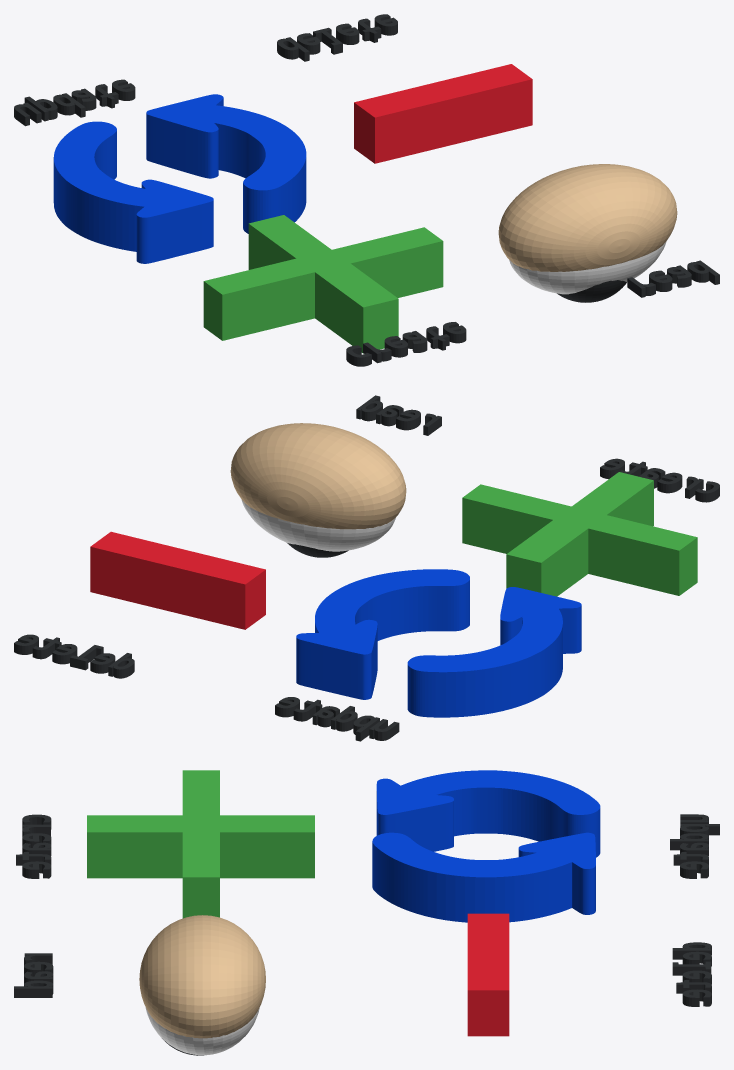
The model's file is crud.obj.
The picture shows the model from 3 angles, top to bottom: view 1: azimuth 30°, elevation 25°; view 2: azimuth 150°, elevation 25°; view 3: azimuth 270°, elevation 25°; orthographic projection.
Visible parts, largest first — view 1: group_0_18921, group_0_4634441, group_0_14860437, group_0_15277357, group_0_2829873, group_0_16448250; view 2: group_0_18921, group_0_4634441, group_0_14860437, group_0_15277357, group_0_2829873, group_0_16448250; view 3: group_0_18921, group_0_4634441, group_0_14860437, group_0_2829873, group_0_15277357, group_0_16448250.
Part boxes in pixels (x1=…): group_0_18921: x1=53, y1=94, x2=306, y2=263; group_0_4634441: x1=203, y1=215, x2=443, y2=353; group_0_14860437: x1=498, y1=164, x2=677, y2=271; group_0_15277357: x1=354, y1=64, x2=532, y2=163; group_0_2829873: x1=14, y1=14, x2=719, y2=366; group_0_16448250: x1=509, y1=241, x2=666, y2=294; group_0_18921: x1=296, y1=569, x2=581, y2=717; group_0_4634441: x1=462, y1=472, x2=697, y2=596; group_0_14860437: x1=230, y1=423, x2=406, y2=529; group_0_15277357: x1=90, y1=531, x2=265, y2=629; group_0_2829873: x1=14, y1=395, x2=719, y2=741; group_0_16448250: x1=241, y1=500, x2=395, y2=551; group_0_18921: x1=372, y1=770, x2=600, y2=922; group_0_4634441: x1=87, y1=770, x2=314, y2=918; group_0_14860437: x1=139, y1=915, x2=265, y2=1038; group_0_2829873: x1=14, y1=814, x2=719, y2=1055; group_0_15277357: x1=467, y1=913, x2=509, y2=1036; group_0_16448250: x1=145, y1=1007, x2=259, y2=1055.
Size of the model in its own units: 104 by 26.75 by 139.
